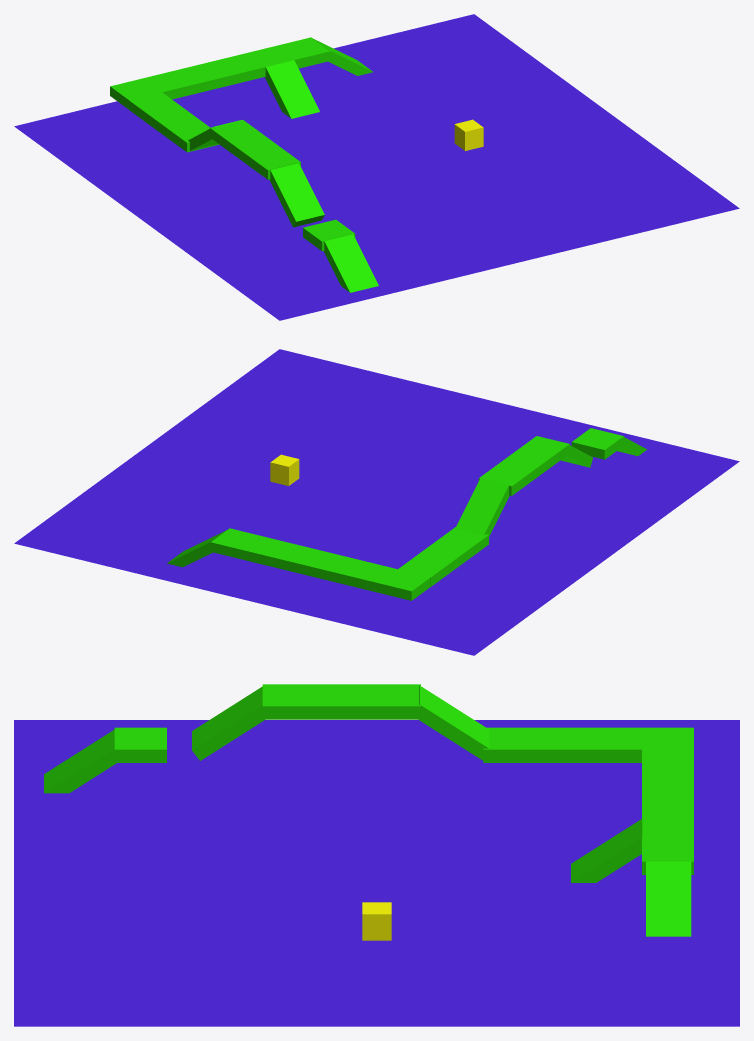
3 renders of one model, top to bottom at view 1: azimuth 30°, elevation 25°; view 2: azimuth 150°, elevation 25°; view 3: azimuth 270°, elevation 25°, orthographic. The views are drawn at different scales.
Visible parts, largest first — view 1: Plane, Cube.003, Cube.001, Cube.006, Cube.004, Cube.008, Cube.007, Cube, Cube.009, Cube.010, Cube.002; view 2: Plane, Cube.003, Cube.001, Cube.006, Cube.004, Cube.005, Cube.009, Cube.010, Cube.002; view 3: Plane, Cube.006, Cube.004, Cube.001, Cube.003, Cube.002, Cube.008, Cube.005, Cube, Cube.007, Cube.009, Cube.010.
Boxes of the visible parts, bbox=[...] form: Plane: bbox=[14, 14, 739, 320]; Cube.003: bbox=[110, 62, 229, 109]; Cube.001: bbox=[211, 37, 330, 85]; Cube.006: bbox=[210, 120, 300, 179]; Cube.004: bbox=[129, 92, 219, 152]; Cube.008: bbox=[269, 163, 324, 227]; Cube.007: bbox=[323, 234, 378, 292]; Cube: bbox=[265, 60, 319, 118]; Cube.009: bbox=[303, 219, 355, 251]; Cube.010: bbox=[454, 119, 483, 150]; Cube.002: bbox=[312, 38, 373, 75]; Plane: bbox=[14, 349, 739, 655]; Cube.003: bbox=[311, 553, 430, 600]; Cube.001: bbox=[210, 528, 329, 576]; Cube.006: bbox=[478, 436, 569, 495]; Cube.004: bbox=[398, 527, 488, 586]; Cube.005: bbox=[455, 478, 509, 536]; Cube.009: bbox=[571, 428, 623, 459]; Cube.010: bbox=[270, 454, 299, 485]; Cube.002: bbox=[167, 529, 227, 567]; Plane: bbox=[14, 720, 739, 1026]; Cube.006: bbox=[262, 684, 420, 719]; Cube.004: bbox=[483, 727, 641, 762]; Cube.001: bbox=[642, 794, 693, 874]; Cube.003: bbox=[642, 727, 693, 794]; Cube.002: bbox=[646, 861, 691, 936]; Cube.008: bbox=[192, 686, 264, 760]; Cube.005: bbox=[418, 686, 489, 760]; Cube: bbox=[571, 819, 642, 882]; Cube.007: bbox=[44, 729, 116, 793]; Cube.009: bbox=[114, 727, 166, 762]; Cube.010: bbox=[362, 902, 391, 940].
Bounding box in the file's own units: 25 × 3.82 × 25.
